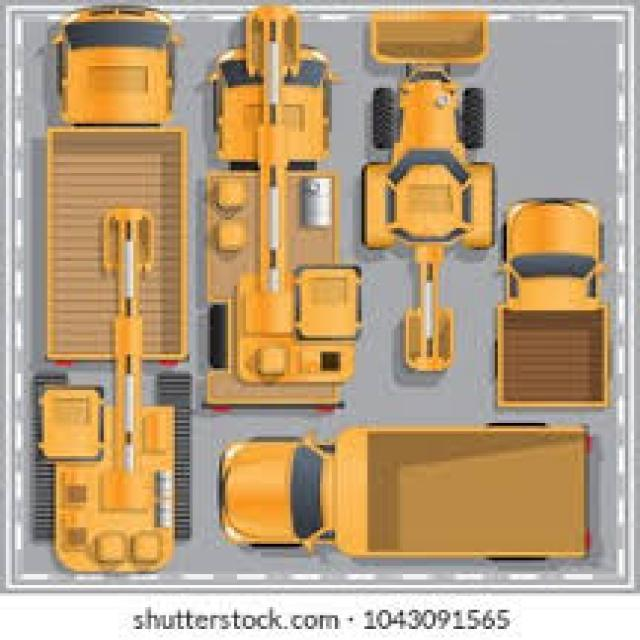truck: (496, 194, 618, 405)
